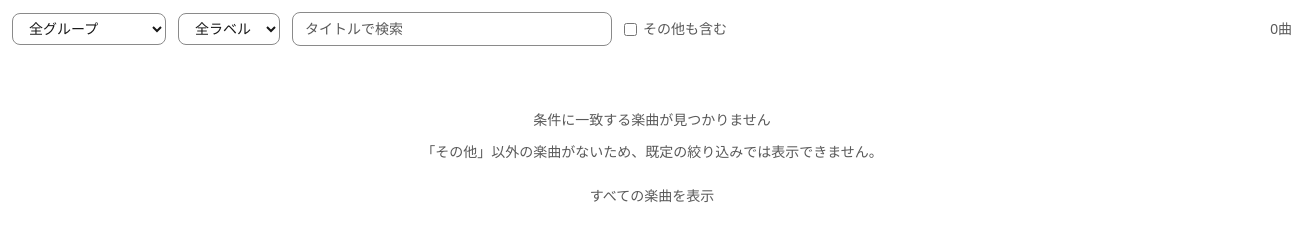
Scenario: SongBrowser のEmpty分岐 › catch-allの曲だけ＋検索語入力のとき、resetボタンは出ずactionを押すと復帰する
Type "検索語" into the search field named "楽曲タイトルで検索". click: (452, 29)
box: [292,12,612,46]
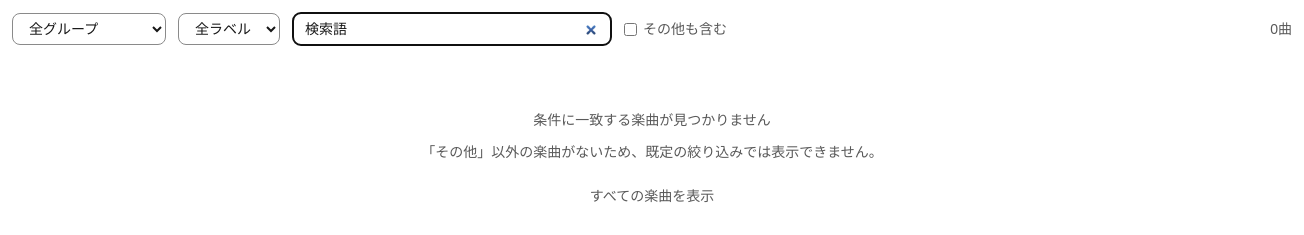
Expected: the text "条件に一致する楽曲が見つかりません" is shown, [533,112,771,128]
Expected: the text "「その他」以外の楽曲がないため、既定の絞り込みでは表示できません。" is shown, [421,144,883,160]
Click the button "すべての楽曲を表示". click: (652, 196)
box: [574,174,730,218]
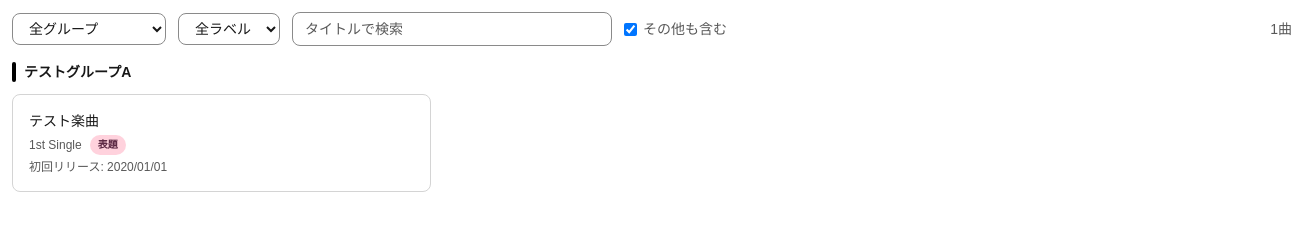
Expected: the text "条件に一致する楽曲が見つかりません" is gone
Expected: the text "テスト楽曲" is shown, [29,113,99,129]
Expected: the search field named "楽曲タイトルで検索" is empty, [292,12,612,46]
